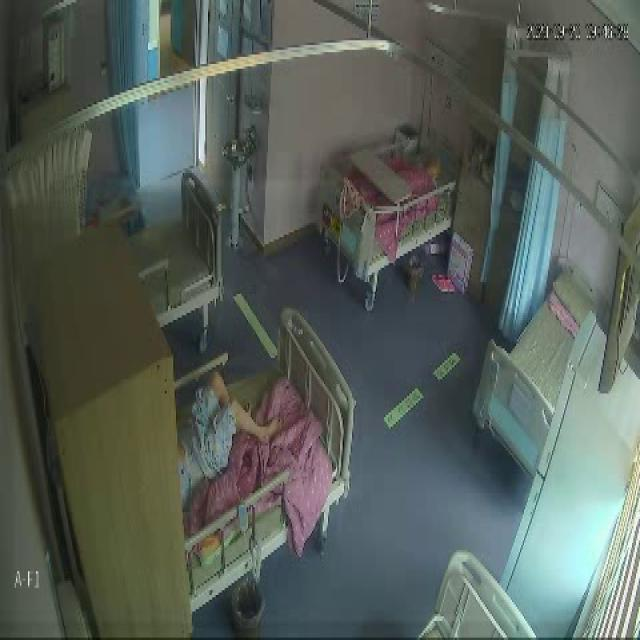bed: (174, 315, 350, 580), (470, 260, 590, 456), (315, 118, 458, 269), (130, 168, 224, 324)
lie: (178, 370, 282, 495)
patient: (174, 368, 283, 494), (413, 148, 443, 186)
